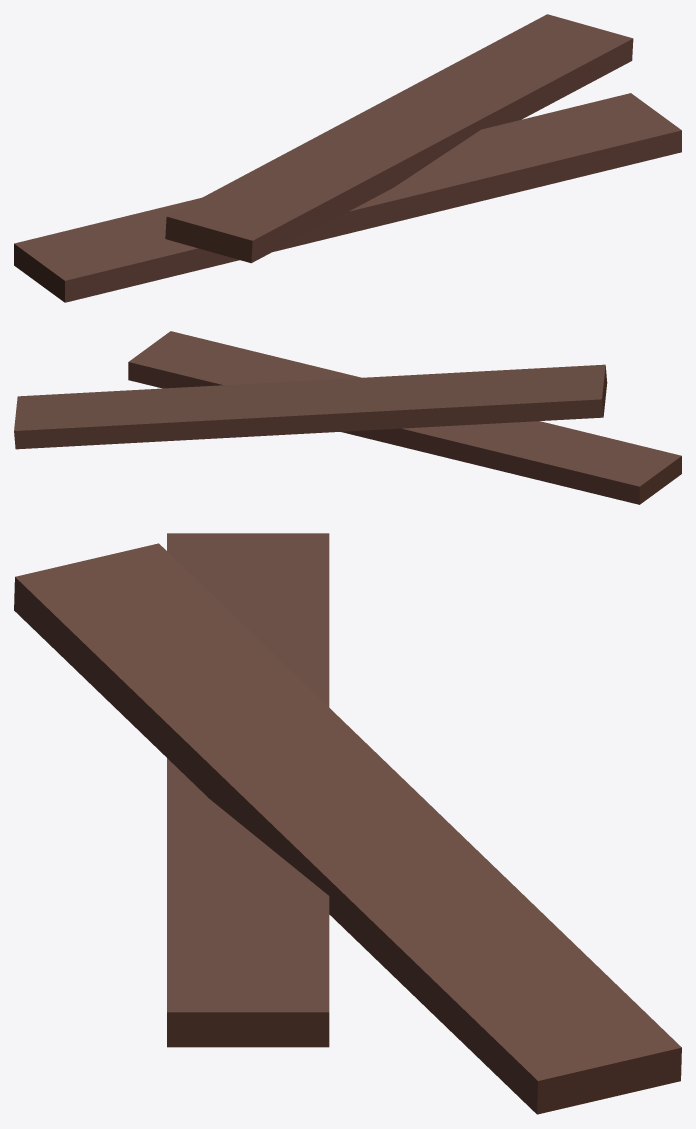
File: SD_Prop_PanksRed_01.fbx
The picture shows the model from 3 angles, top to bottom: view 1: azimuth 30°, elevation 25°; view 2: azimuth 150°, elevation 25°; view 3: azimuth 270°, elevation 25°; orthographic projection. The views are drawn at different scales.
Visible parts, largest first — view 1: SD_Prop_PanksRed_01; view 2: SD_Prop_PanksRed_01; view 3: SD_Prop_PanksRed_01.
Part boxes in pixels (left/top/right/bottom): SD_Prop_PanksRed_01: left=14, top=14, right=681, bottom=302; SD_Prop_PanksRed_01: left=14, top=331, right=681, bottom=504; SD_Prop_PanksRed_01: left=14, top=533, right=681, bottom=1114.
Size of the model in its own units: 4.58 by 0.4724 by 2.43.
